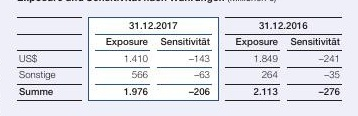table: (0, 0, 358, 116)
